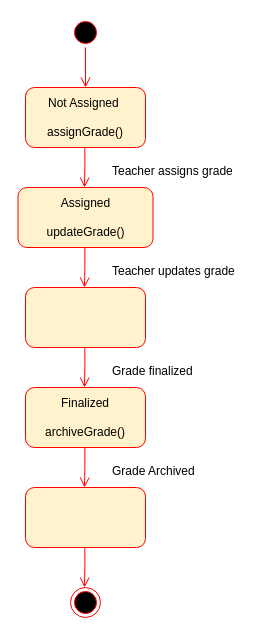
Some shapes in this 257 by 635 pixel diagram are drawn without their labels. Here are the shapes that lost their labels. From the top down, the centre of each, then its label:
(85,317): Updated finalizeGrade()
(85,517): Archived
